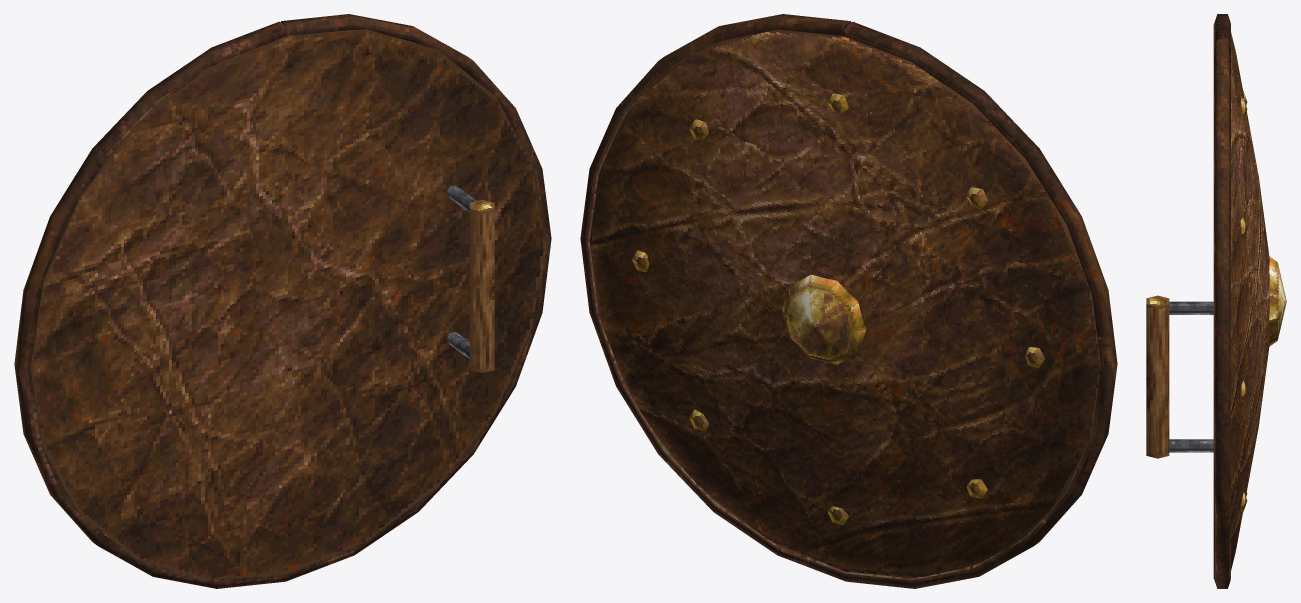
The model's file is hide_targe.glb.
3 views of the same model, side by side, from view 1: azimuth 30°, elevation 25°; view 2: azimuth 150°, elevation 25°; view 3: azimuth 270°, elevation 25° (orthographic). The views are drawn at different scales.
Visible parts, largest first — view 1: hide_targe; view 2: hide_targe; view 3: hide_targe.
Part boxes in pixels (box(x1,y1,x2,y2)): hide_targe: box(14, 14, 551, 588); hide_targe: box(580, 14, 1117, 588); hide_targe: box(1146, 14, 1286, 588).
Size of the model in its own units: 0.5169 by 0.5169 by 0.1259.
Materials: 1 (1 with a texture image).
